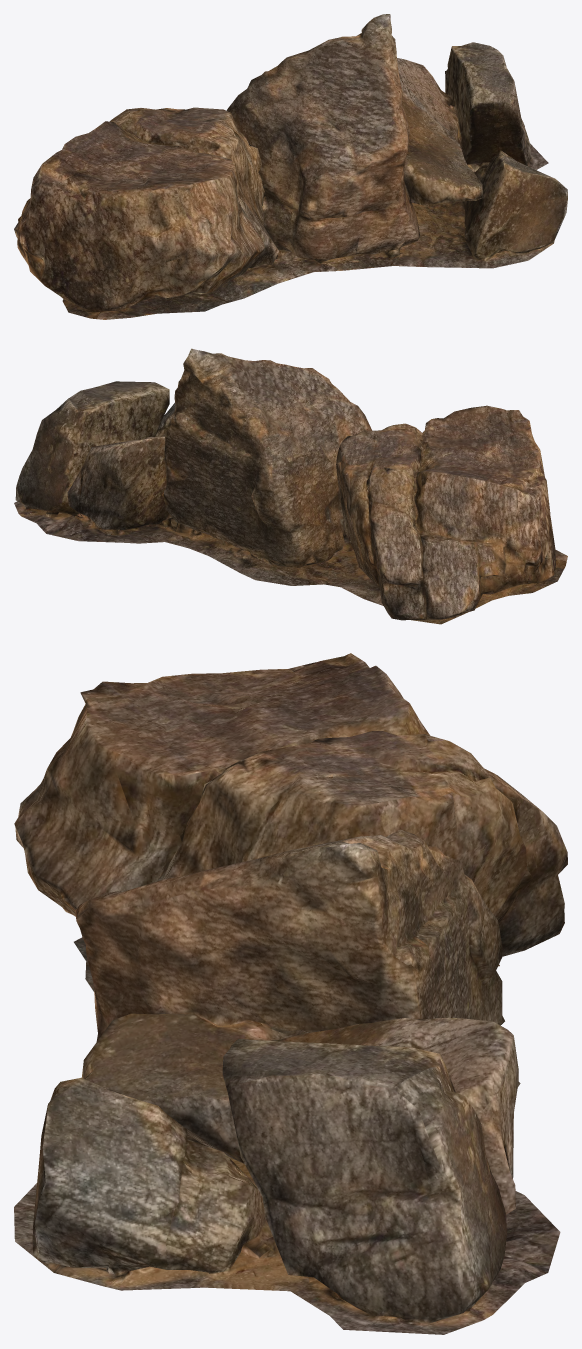
Rendered from namaqualand_boulder_02.glb.
The picture shows the model from 3 angles, top to bottom: view 1: azimuth 30°, elevation 25°; view 2: azimuth 150°, elevation 25°; view 3: azimuth 270°, elevation 25°; orthographic projection. The views are drawn at different scales.
Parts seen in each view (by area): view 1: a_lod0; view 2: a_lod0; view 3: a_lod0.
Part boxes in pixels (x1=…): a_lod0: x1=14, y1=14, x2=567, y2=319; a_lod0: x1=14, y1=348, x2=567, y2=624; a_lod0: x1=14, y1=653, x2=567, y2=1334.
Size of what is drawn, in the model's own units: 2.51 by 0.8735 by 1.23.
1 material, 1 textured.
